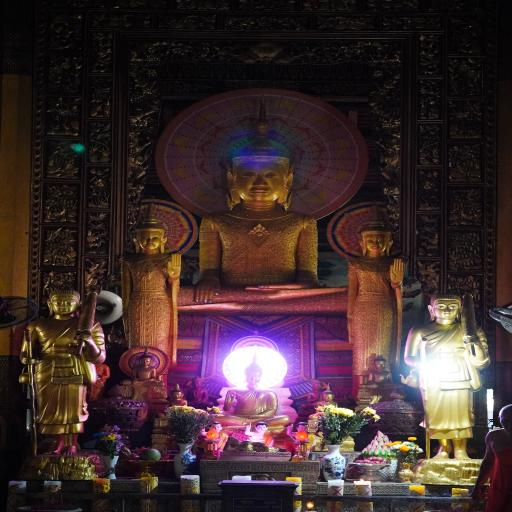than: (173, 110, 337, 314), (374, 284, 504, 490), (0, 271, 120, 480), (318, 202, 429, 408), (107, 194, 206, 378), (215, 356, 296, 427), (340, 346, 409, 420), (108, 338, 172, 388), (284, 416, 321, 462), (239, 416, 277, 458), (308, 382, 348, 420), (191, 418, 229, 456), (296, 376, 331, 412), (184, 374, 217, 409), (162, 380, 190, 408)
